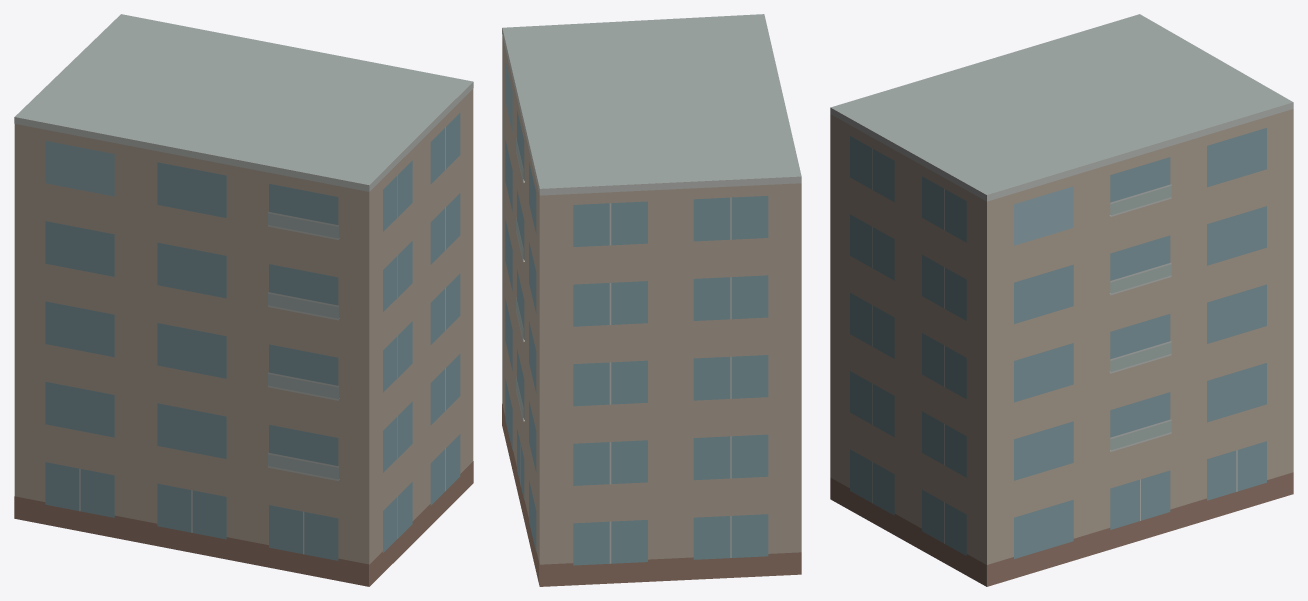
Rendered from survey-upis-32677303.glb.
3 views of the same model, side by side, from view 1: azimuth 30°, elevation 25°; view 2: azimuth 150°, elevation 25°; view 3: azimuth 270°, elevation 25° (orthographic). The views are drawn at different scales.
Parts seen in each view (by area): view 1: survey-upis-32677303.tmp; view 2: survey-upis-32677303.tmp; view 3: survey-upis-32677303.tmp.
Boxes of the visible parts, <box> form: survey-upis-32677303.tmp: <box>14,14,473,586</box>; survey-upis-32677303.tmp: <box>502,14,801,586</box>; survey-upis-32677303.tmp: <box>830,14,1293,586</box>.
Size of the model in its own units: 14.46 by 14.57 by 15.63.
